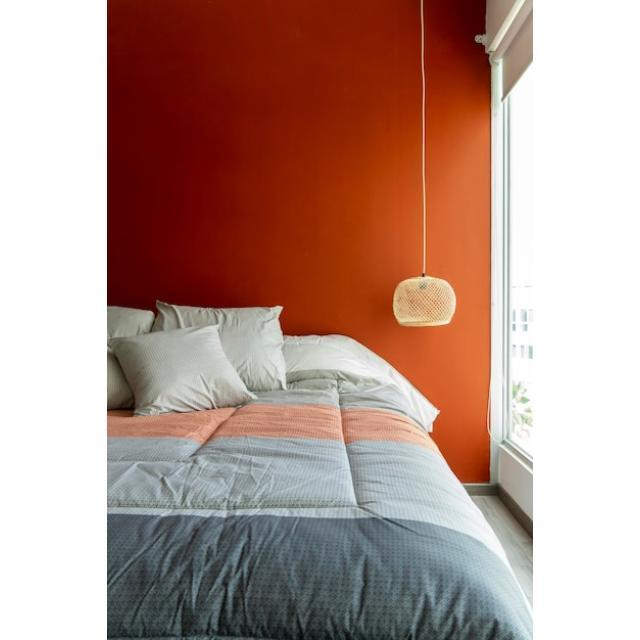pillow: (108, 324, 257, 418), (150, 300, 286, 388)
